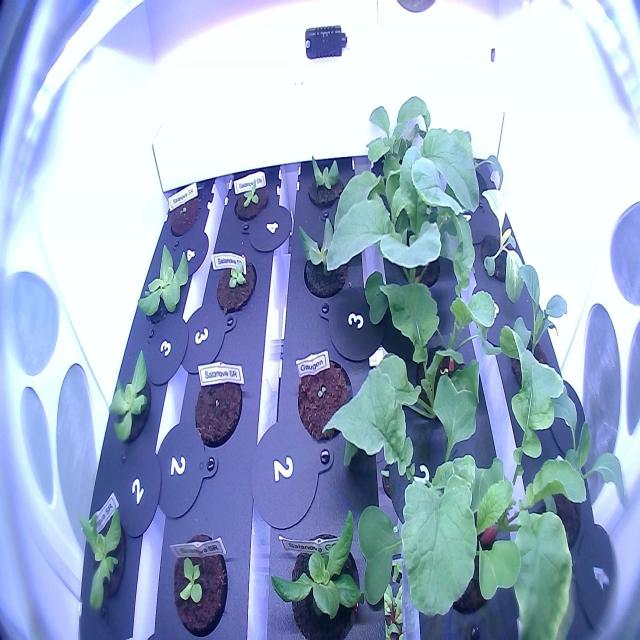germination: (292, 344, 356, 451)
pod: (188, 361, 246, 454), (163, 177, 205, 243)
young: (266, 501, 372, 640), (164, 528, 233, 640), (72, 502, 133, 626), (291, 206, 353, 310), (101, 342, 159, 452), (132, 233, 193, 336), (209, 247, 260, 325), (299, 143, 352, 218), (230, 164, 274, 230)
